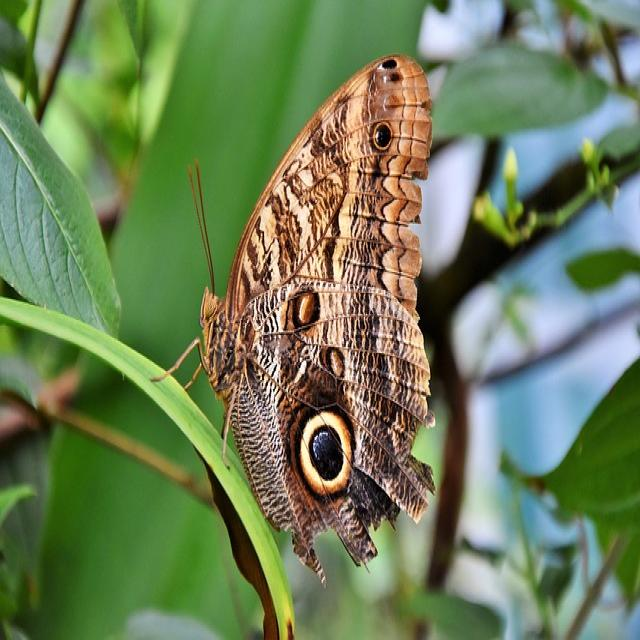butterfly: (201, 54, 434, 578)
